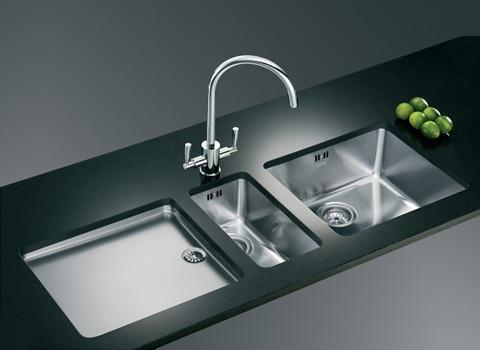Lavaplatos: (15, 51, 461, 331)
